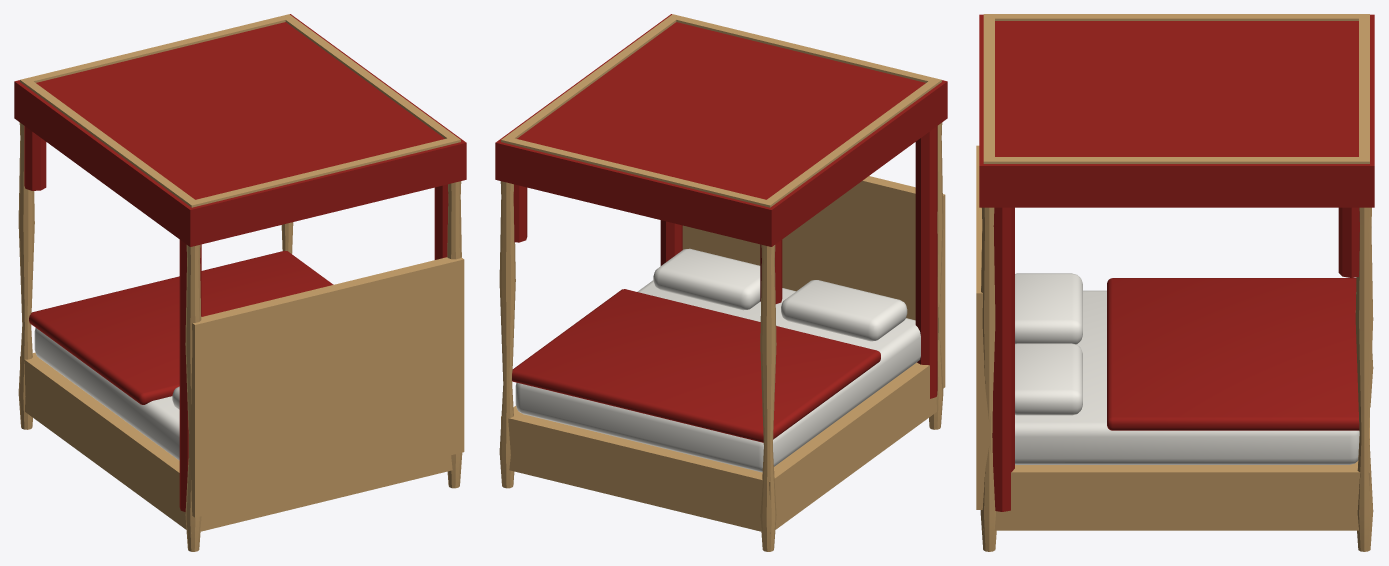
Rendered from home.mansion.four_poster.glb.
3 renders of one model, left to right at view 1: azimuth 30°, elevation 25°; view 2: azimuth 150°, elevation 25°; view 3: azimuth 270°, elevation 25°, orthographic. The views are drawn at different scales.
Parts seen in each view (by area): view 1: main__glulam, main__fabric_red, main__fabric_white; view 2: main__fabric_red, main__glulam, main__fabric_white; view 3: main__fabric_red, main__glulam, main__fabric_white.
Boxes of the visible parts, x1,y1,x2,y2 form: main__glulam: (18, 14, 464, 551); main__fabric_red: (14, 14, 466, 511); main__fabric_white: (34, 328, 179, 460); main__fabric_red: (495, 14, 947, 442); main__glulam: (499, 14, 945, 551); main__fabric_white: (515, 248, 920, 472); main__fabric_red: (979, 14, 1374, 511); main__glulam: (976, 14, 1373, 551); main__fabric_white: (1015, 273, 1359, 464).
Bounding box in the file's own units: 1.95 × 2.34 × 2.16.
